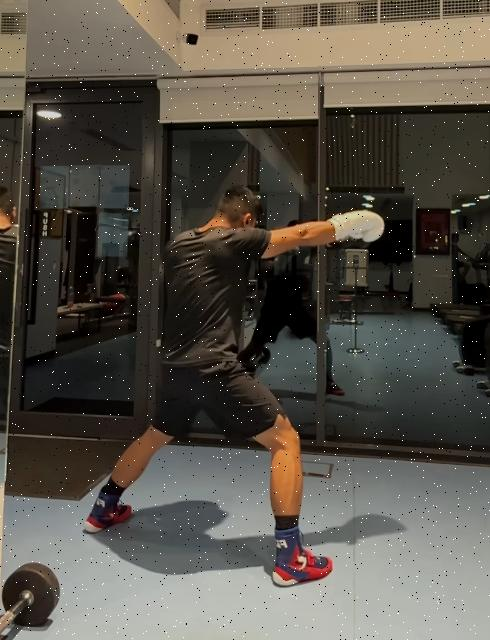punch: (84, 178, 388, 592)
